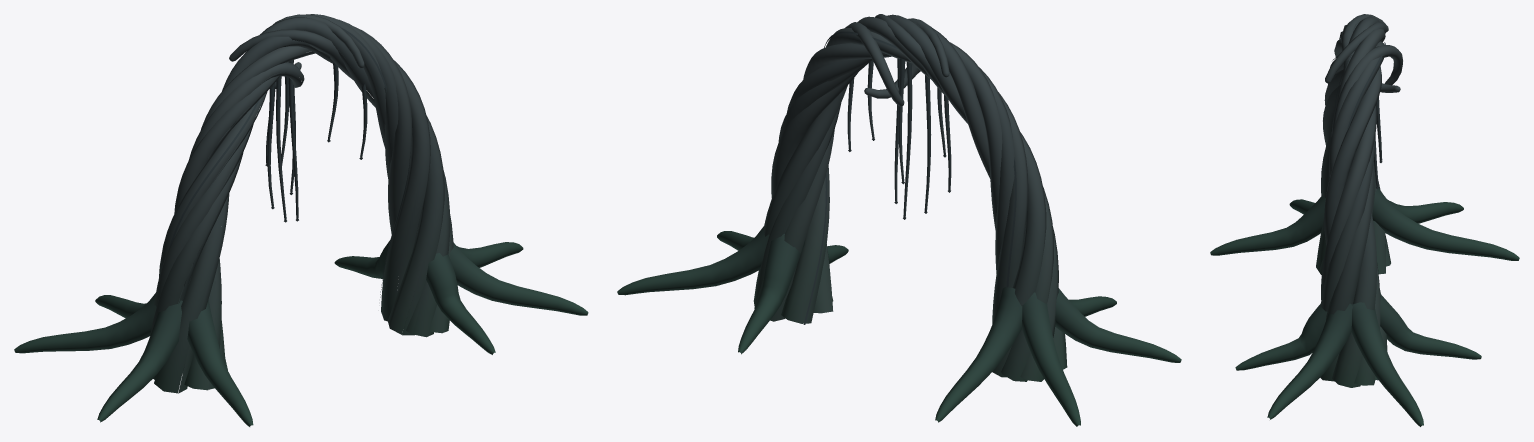
File: rootArch_lod0.glb
3 renders of one model, left to right at view 1: azimuth 30°, elevation 25°; view 2: azimuth 150°, elevation 25°; view 3: azimuth 270°, elevation 25°, orthographic. The views are drawn at different scales.
Parts seen in each view (by area): view 1: root arch; view 2: root arch; view 3: root arch.
Part boxes in pixels (<box>): root arch: <box>14,14,588,426</box>; root arch: <box>617,14,1181,426</box>; root arch: <box>1210,14,1519,426</box>.
Size of the model in its own units: 11.48 by 7.28 by 6.74.
